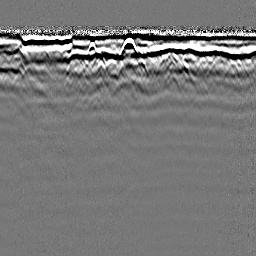cavity: (118, 34, 137, 56)
